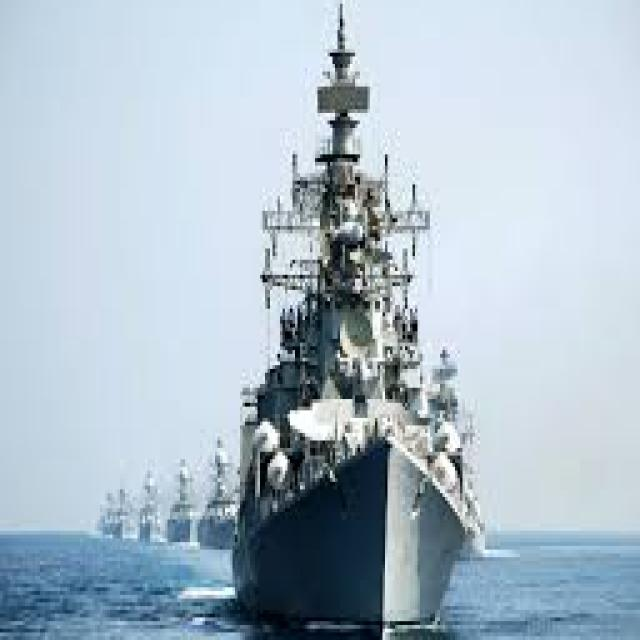navalvessels: (220, 7, 493, 640), (211, 424, 244, 573), (132, 476, 169, 561), (171, 464, 195, 550)
